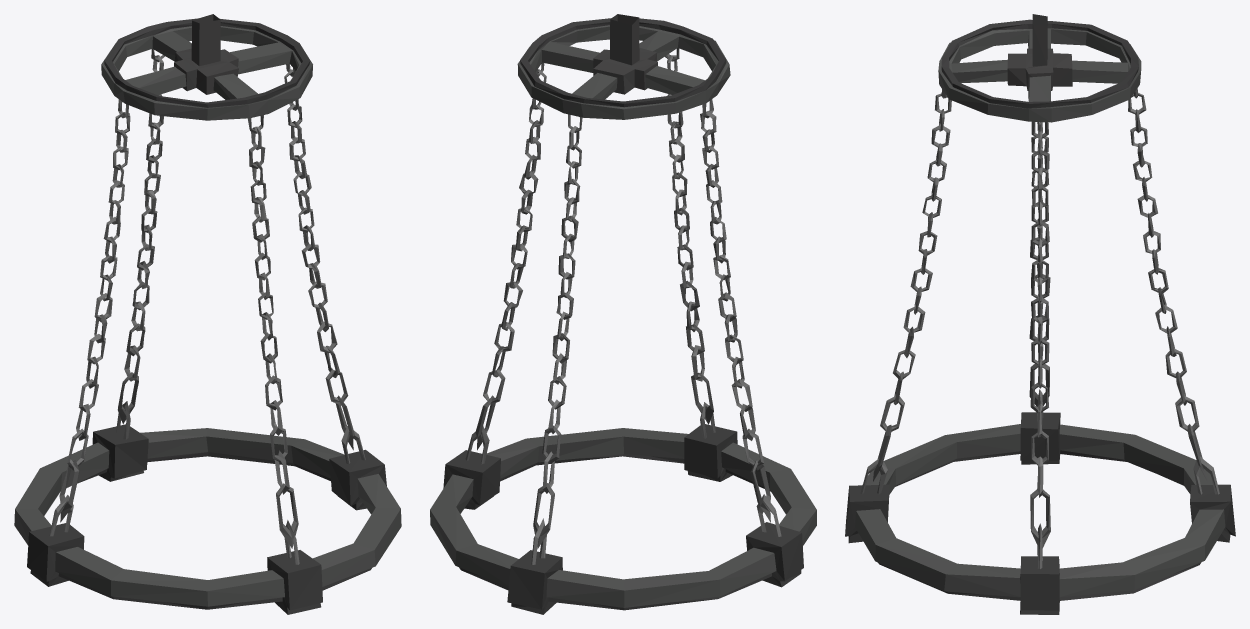
File: AWS_Roof_Prop.fbx
The picture shows the model from 3 angles, left to right: view 1: azimuth 30°, elevation 25°; view 2: azimuth 150°, elevation 25°; view 3: azimuth 270°, elevation 25°; orthographic projection.
Visible parts, largest first — view 1: AWS_Roof_Prop; view 2: AWS_Roof_Prop; view 3: AWS_Roof_Prop.
Part boxes in pixels (bbox=[...]): AWS_Roof_Prop: bbox=[14, 14, 401, 614]; AWS_Roof_Prop: bbox=[430, 14, 816, 614]; AWS_Roof_Prop: bbox=[845, 14, 1235, 614].
Bounding box in the file's own units: 66.2 × 96.71 × 66.47.
